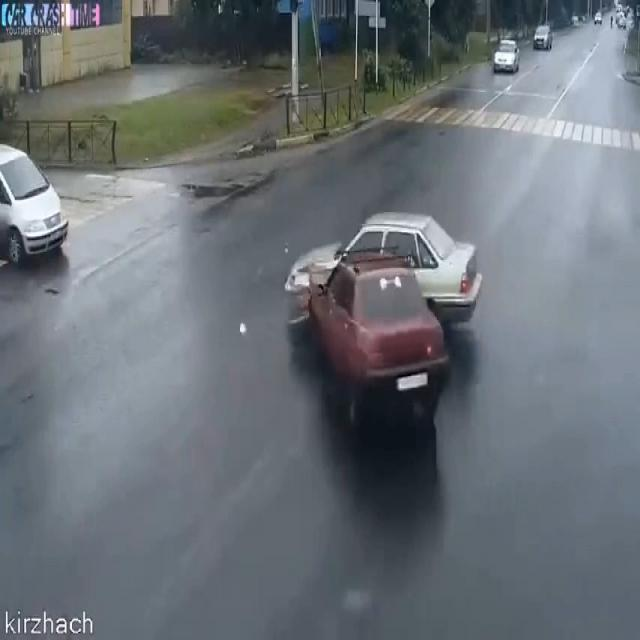Accident: (284, 162, 481, 462)
